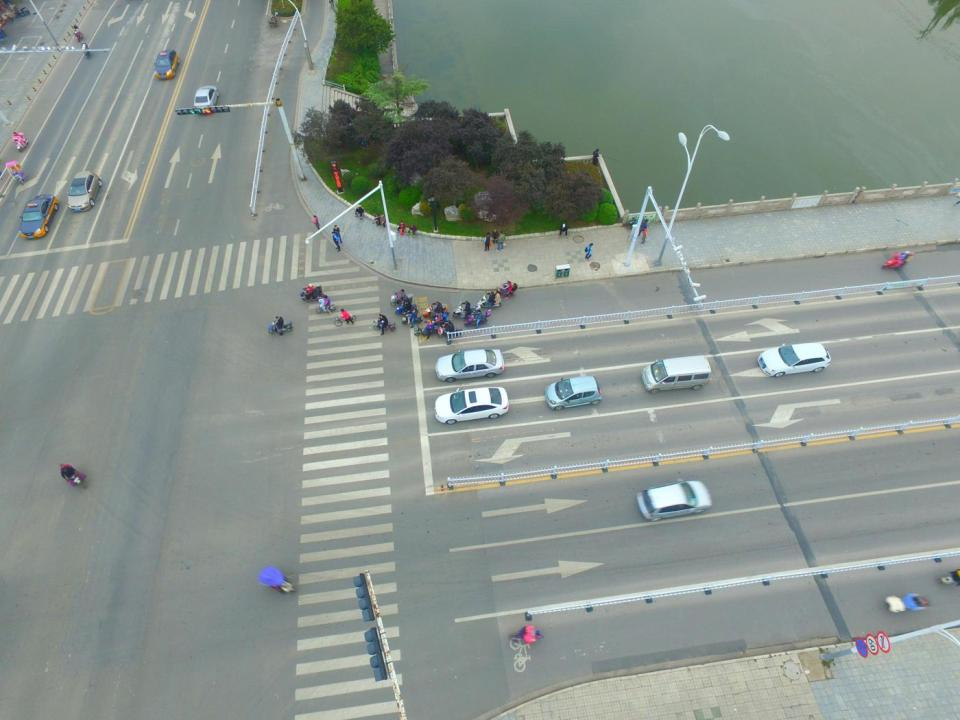car: (632, 476, 713, 531), (755, 338, 832, 381), (432, 385, 512, 426), (433, 347, 506, 382), (543, 373, 604, 411), (16, 193, 58, 240), (67, 168, 103, 213), (192, 80, 219, 116), (155, 49, 181, 84)
van: (643, 350, 711, 396)
